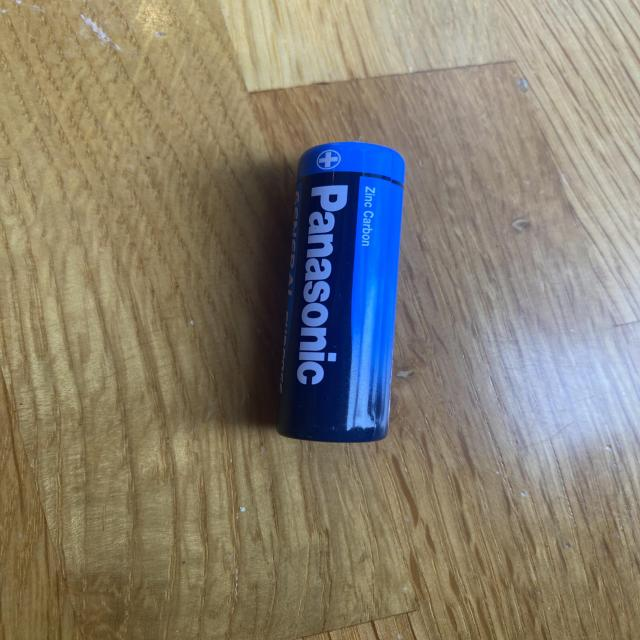AA: (268, 139, 410, 446)
